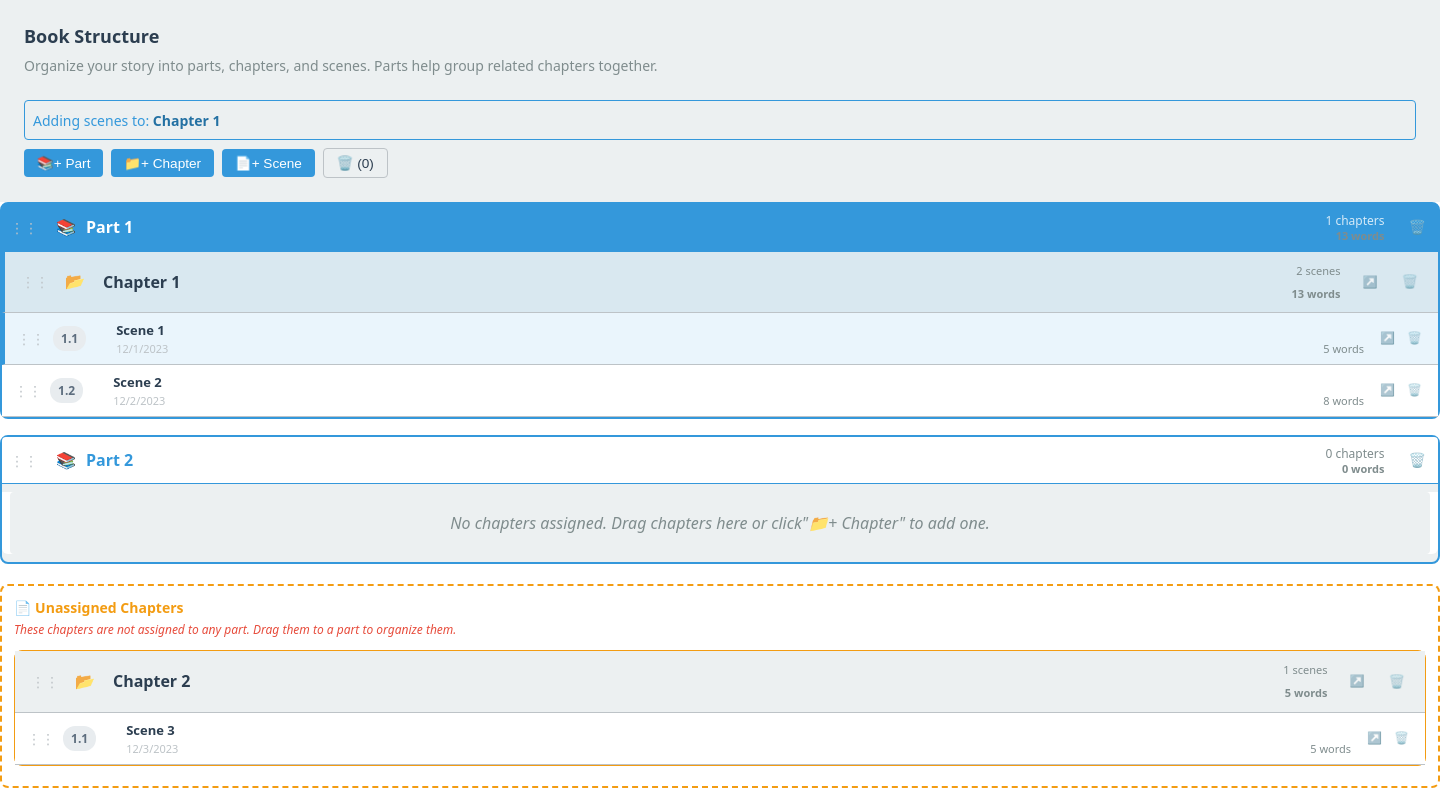
Test: SceneList Component › enables chapter title editing on double-click
This screenshot has width=1440, height=810.
Double-click the text with class "chapter-title" below "Part 1": (142, 282) [103,271,180,293]
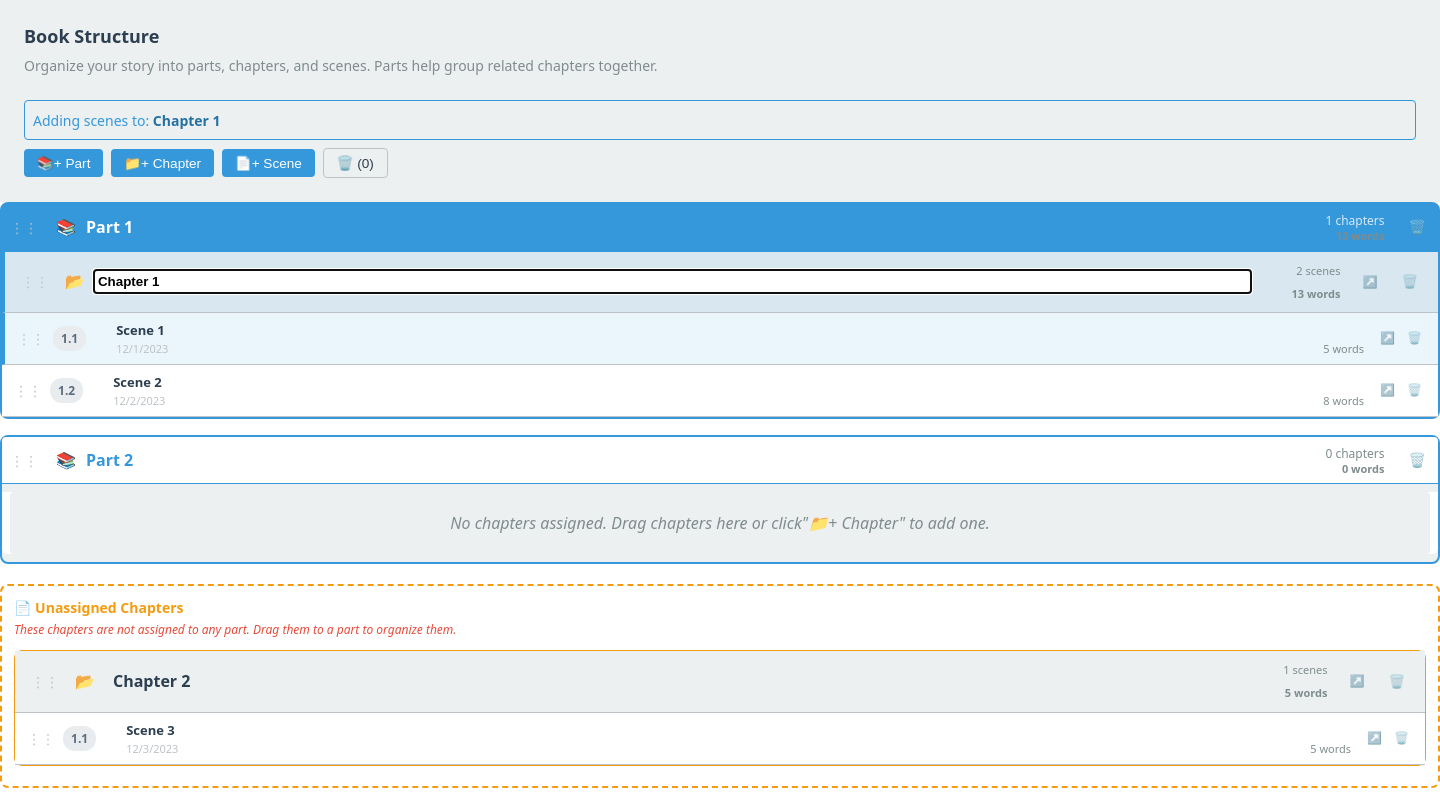
Now the field showing "Chapter 1" is shown, box [93,269,1252,294]
